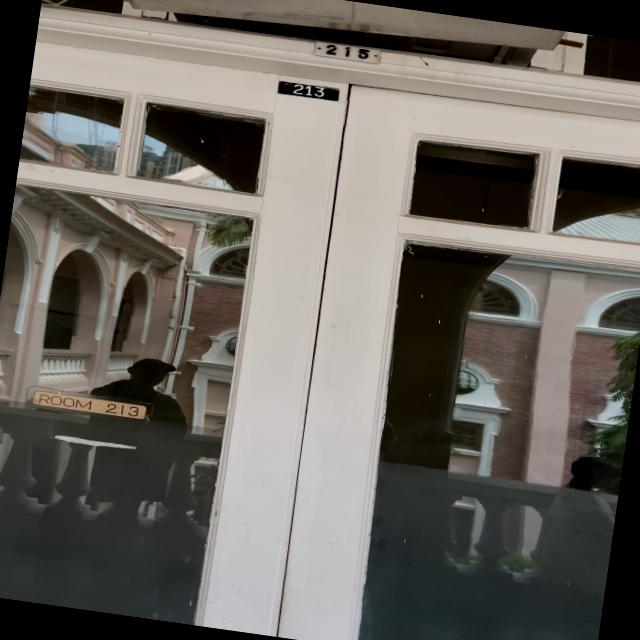room213: (272, 77, 346, 104)
